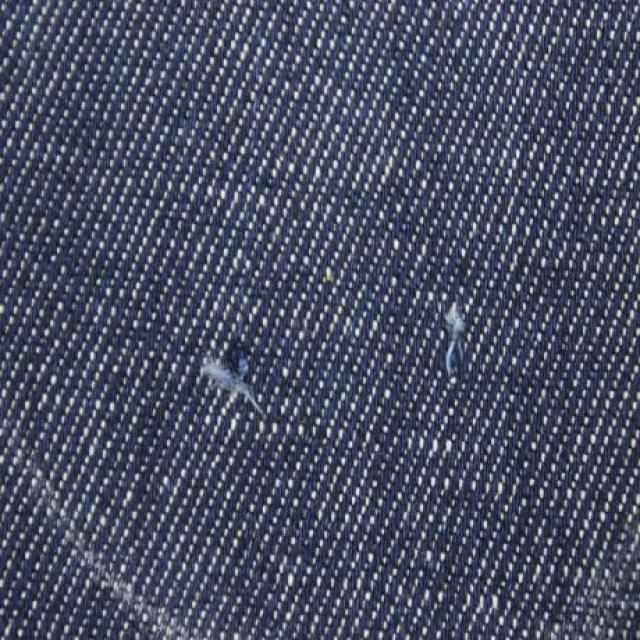stains: (104, 220, 553, 474)
